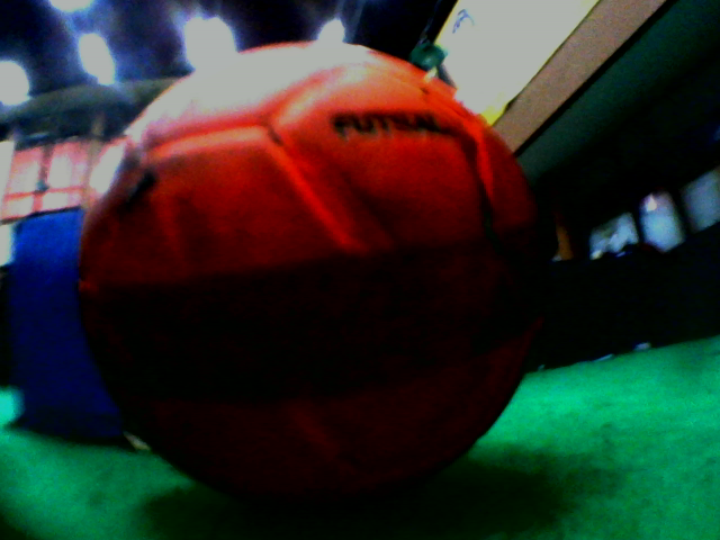bola: (57, 35, 562, 530)
